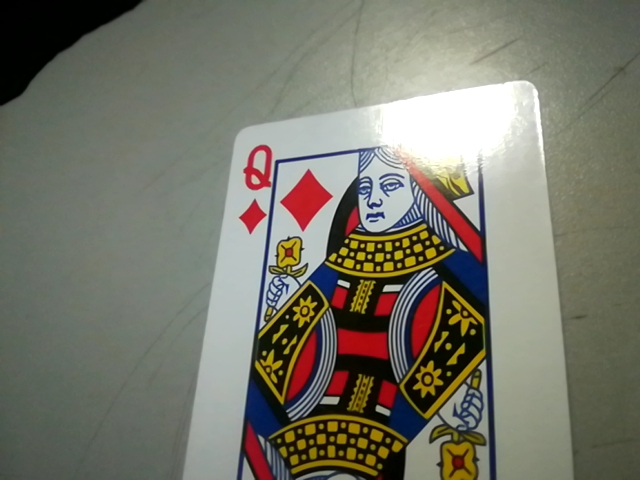fk q: (225, 137, 278, 232)
